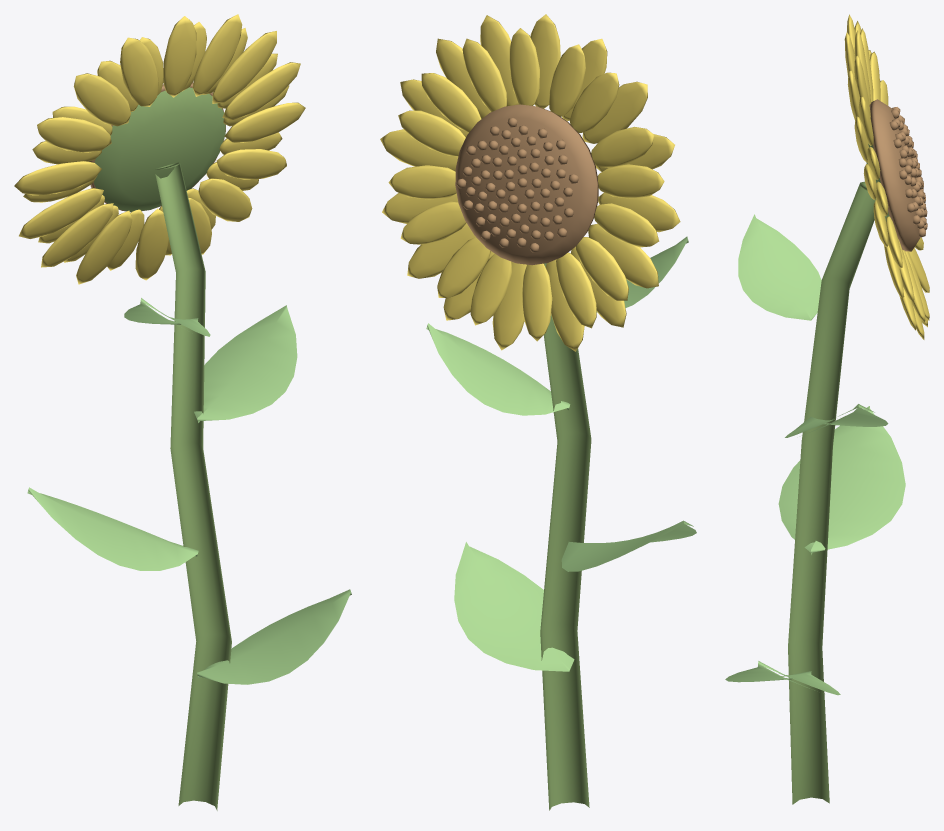
The model's file is HoneySunflower.glb.
3 renders of one model, left to right at view 1: azimuth 30°, elevation 25°; view 2: azimuth 150°, elevation 25°; view 3: azimuth 270°, elevation 25°, orthographic. The views are drawn at different scales.
Parts seen in each view (by area): view 1: SunPetals, Stem, SunLeaves; view 2: SunPetals, SeedHead, SunLeaves, Stem; view 3: Stem, SunLeaves, SunPetals, SeedHead.
Boxes of the visible parts, <box> form: SunPetals: <box>14,14,305,284</box>; Stem: <box>94,87,231,810</box>; SunLeaves: <box>27,298,351,684</box>; SunPetals: <box>380,14,680,351</box>; SeedHead: <box>455,104,598,265</box>; SunLeaves: <box>426,236,696,671</box>; Stem: <box>540,263,591,810</box>; Stem: <box>788,143,889,804</box>; SunLeaves: <box>725,214,905,695</box>; SunPetals: <box>844,14,929,339</box>; SeedHead: <box>869,99,927,251</box>.
Size of the model in its own units: 5.5 by 14.09 by 3.36.
